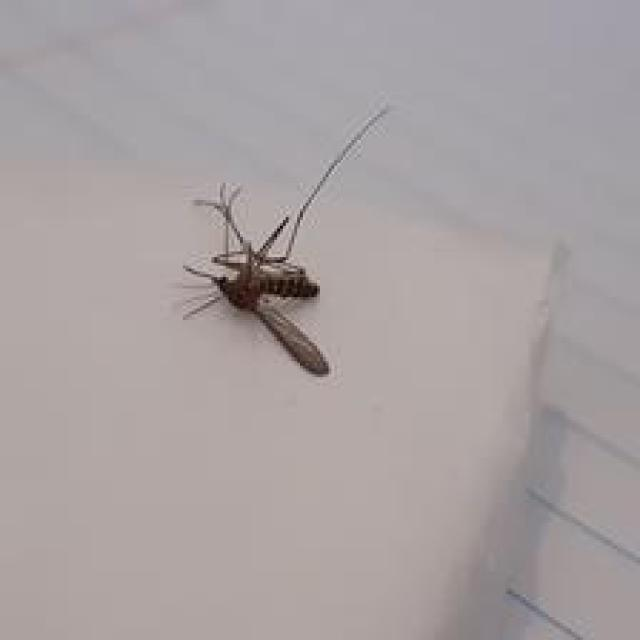Culex: (177, 102, 392, 378)
